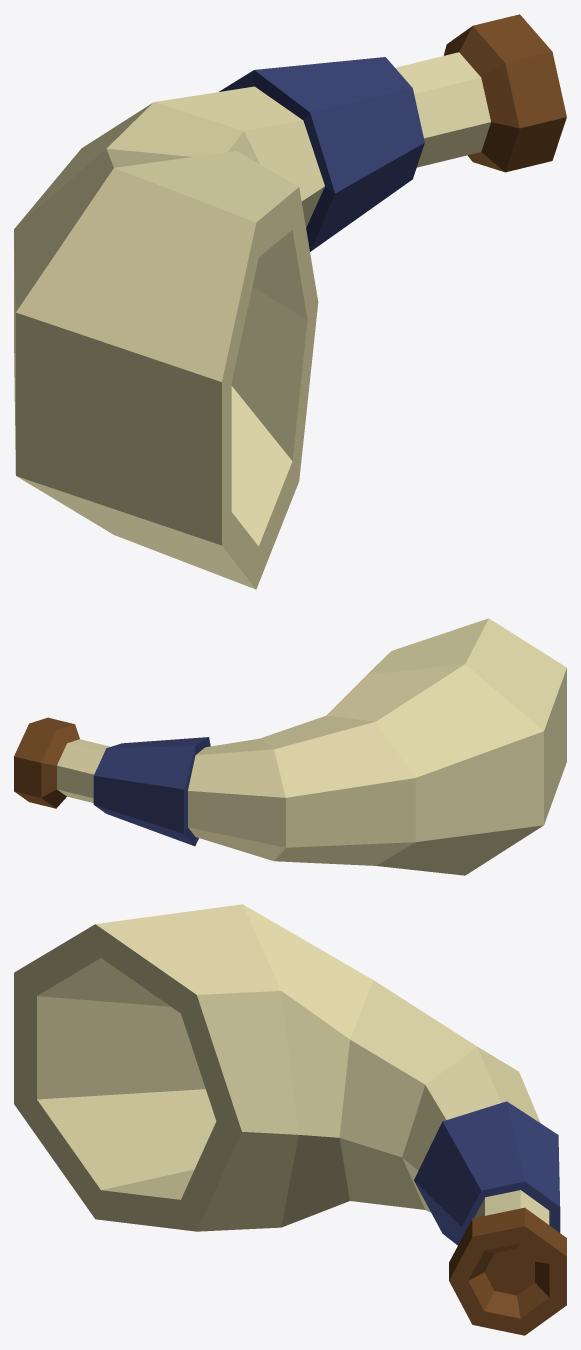
Rendered from F_Horn_Blue.fbx.
3 renders of one model, top to bottom at view 1: azimuth 30°, elevation 25°; view 2: azimuth 150°, elevation 25°; view 3: azimuth 270°, elevation 25°, orthographic. The views are drawn at different scales.
Visible parts, largest first — view 1: F_Horn_Blue; view 2: F_Horn_Blue; view 3: F_Horn_Blue.
Part boxes in pixels (x1,y1,x2,y2): F_Horn_Blue: (14,14,566,589); F_Horn_Blue: (14,618,566,875); F_Horn_Blue: (14,904,566,1335).
Size of the model in its own units: 44.6 by 22.39 by 38.01.
